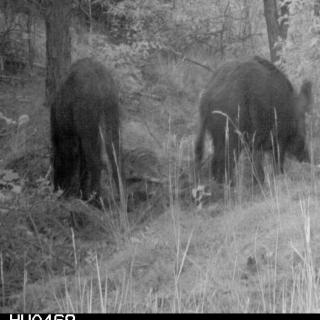Pig: (190, 48, 320, 196), (28, 51, 137, 210)
